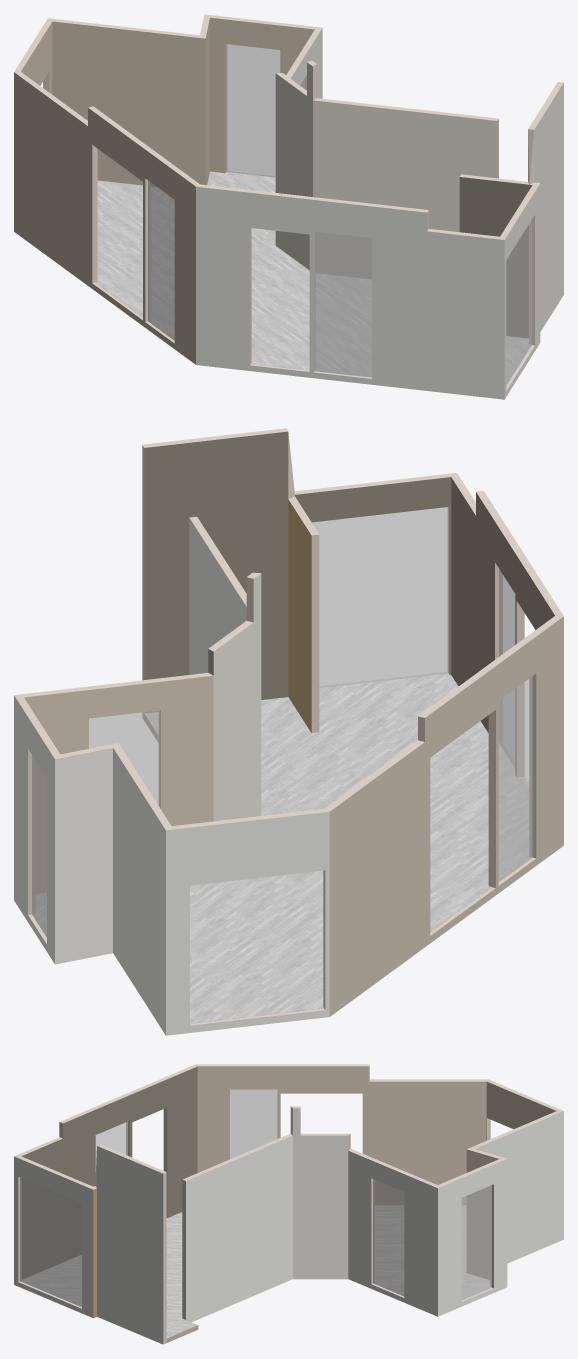
3 views of the same model, one above another, from view 1: azimuth 30°, elevation 25°; view 2: azimuth 150°, elevation 25°; view 3: azimuth 270°, elevation 25° (orthographic). The views are drawn at different scales.
Parts seen in each view (by area): view 1: wall_0, floor_Other, wall_9, wall_23, wall_33, door_2, door_7, door_3, door_8, wall_12, wall_4, wall_17 (+15 smaller); view 2: floor_Other, wall_9, wall_37, door_0, door_5, wall_7, wall_15, wall_6, wall_10, wall_13, wall_17, door_1 (+22 smaller); view 3: wall_31, wall_5, wall_13, wall_12, wall_2, wall_1, wall_10, floor_Other, door_0, door_5, wall_8, wall_3 (+20 smaller).
Part boxes in pixels (left/top/right/bottom): wall_0: left=196, top=186, right=504, bottom=399; floor_Other: left=95, top=171, right=531, bottom=385; wall_9: left=14, top=72, right=195, bottom=364; wall_23: left=313, top=100, right=497, bottom=279; wall_33: left=52, top=21, right=205, bottom=186; door_2: left=315, top=232, right=371, bottom=377; door_7: left=315, top=232, right=371, bottom=376; door_3: left=226, top=44, right=279, bottom=177; door_8: left=226, top=44, right=279, bottom=176; wall_12: left=534, top=83, right=563, bottom=331; wall_4: left=459, top=177, right=529, bottom=338; wall_17: left=275, top=62, right=312, bottom=270; floor_Other: left=32, top=673, right=531, bottom=1023; wall_9: left=329, top=616, right=563, bottom=1016; wall_37: left=144, top=431, right=288, bottom=712; door_0: left=312, top=507, right=448, bottom=687; door_5: left=312, top=507, right=448, bottom=687; wall_7: left=166, top=811, right=329, bottom=1035; wall_15: left=24, top=675, right=213, bottom=893; wall_6: left=55, top=748, right=112, bottom=964; wall_10: left=113, top=748, right=165, bottom=1035; wall_13: left=451, top=477, right=554, bottom=776; wall_17: left=213, top=573, right=261, bottom=821; door_1: left=499, top=677, right=532, bottom=881; wall_31: left=197, top=1066, right=486, bottom=1204; wall_5: left=186, top=1136, right=292, bottom=1322; wall_13: left=21, top=1066, right=197, bottom=1279; wall_12: left=97, top=1146, right=163, bottom=1344; wall_2: left=293, top=1108, right=348, bottom=1279; wall_1: left=348, top=1151, right=437, bottom=1316; wall_10: left=475, top=1111, right=563, bottom=1263; floor_Other: left=21, top=1205, right=491, bottom=1338; door_0: left=20, top=1177, right=81, bottom=1306; door_5: left=20, top=1178, right=81, bottom=1306; wall_8: left=438, top=1159, right=507, bottom=1316; wall_3: left=14, top=1156, right=93, bottom=1317.
Size of the model in its own units: 6.34 by 3.69 by 10.77.
Materials: 30 (1 with a texture image).
